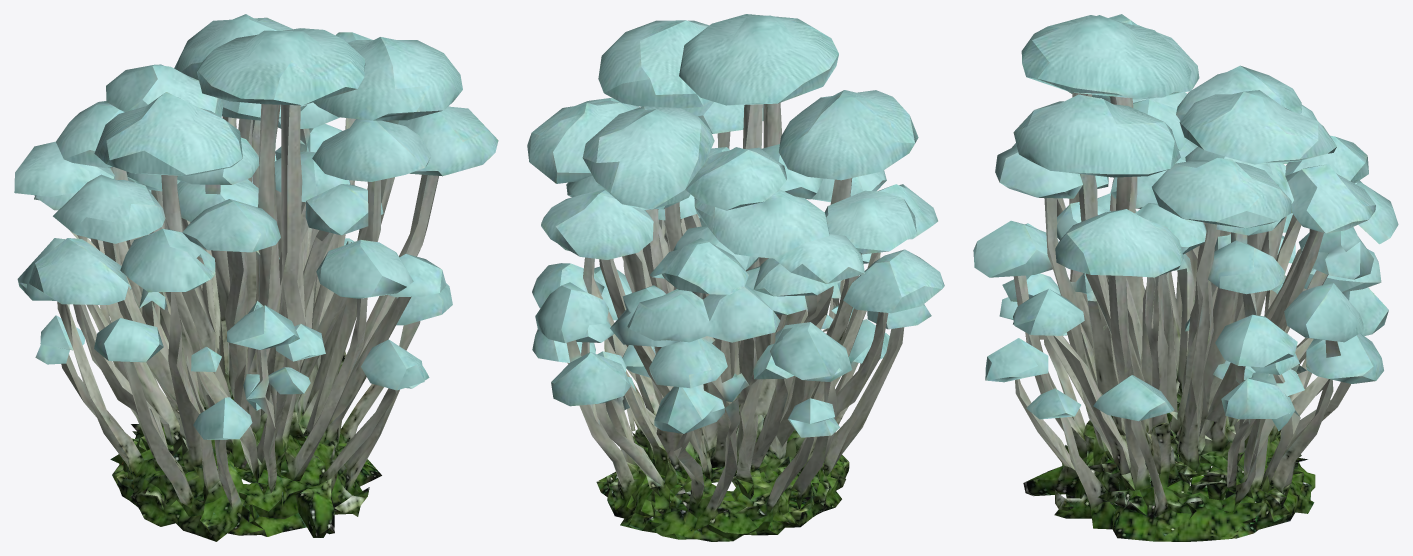
3 views of the same model, side by side, from view 1: azimuth 30°, elevation 25°; view 2: azimuth 150°, elevation 25°; view 3: azimuth 270°, elevation 25° (orthographic). The views are drawn at different scales.
Visible parts, largest first — view 1: world; view 2: world; view 3: world.
Boxes of the visible parts, x1,y1,x2,y2 form: world: (14,14,498,541); world: (527,14,944,541); world: (973,14,1398,541).
Bounding box in the file's own units: 0.4222 × 0.45 × 0.3692.
1 material, 1 textured.
